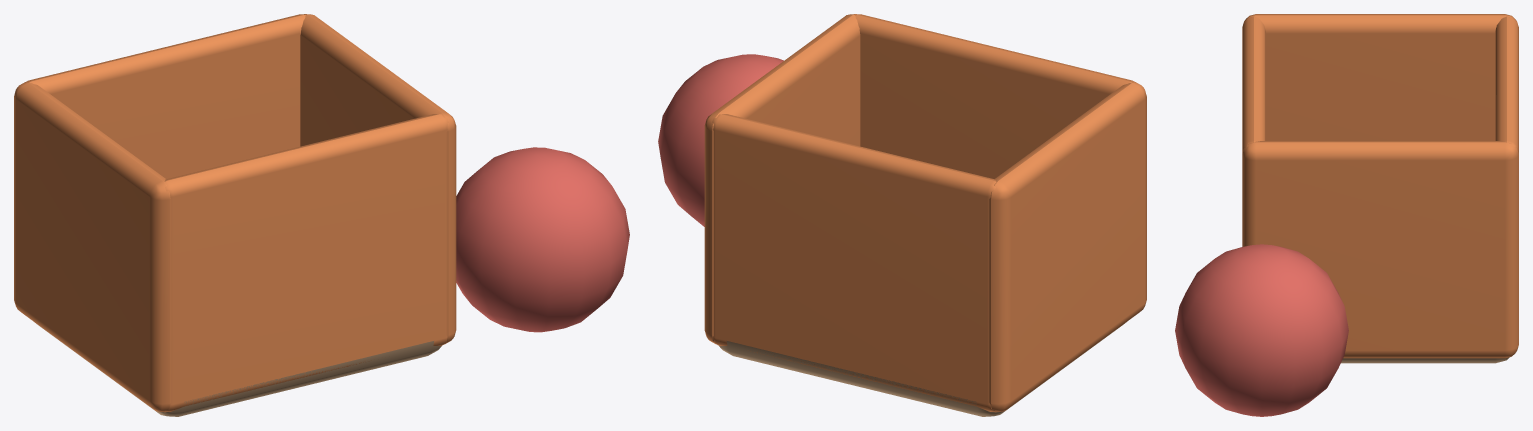
The model's file is ava-position-near.glb.
The picture shows the model from 3 angles, left to right: view 1: azimuth 30°, elevation 25°; view 2: azimuth 150°, elevation 25°; view 3: azimuth 270°, elevation 25°; orthographic projection. The views are drawn at different scales.
Parts seen in each view (by area): view 1: box side.010, box side.008, box side.011, location ball, box side.009, box floor.002; view 2: box side.011, box side.008, box side.010, box side.009, location ball, box floor.002; view 3: box side.009, box side.008, location ball, box side.010, box side.011, box floor.002.
Part boxes in pixels (x1,y1,x2,y2): box side.010: (164,114,448,411); box side.008: (14,82,171,412); box side.011: (26,14,305,179); location ball: (456,147,629,332); box side.009: (300,14,456,343); box floor.002: (36,323,441,416); box side.011: (712,114,996,411); box side.008: (989,82,1146,412); box side.010: (855,14,1134,179); box side.009: (704,14,860,343); location ball: (658,54,783,226); box floor.002: (719,322,1126,416); box side.009: (1242,141,1518,358); box side.008: (1244,14,1516,140); location ball: (1175,244,1348,416); box side.010: (1242,16,1265,153); box side.011: (1495,16,1518,153); box floor.002: (1341,357,1509,363).
Bounding box in the file's own units: 1.28 × 0.63 × 0.87.
